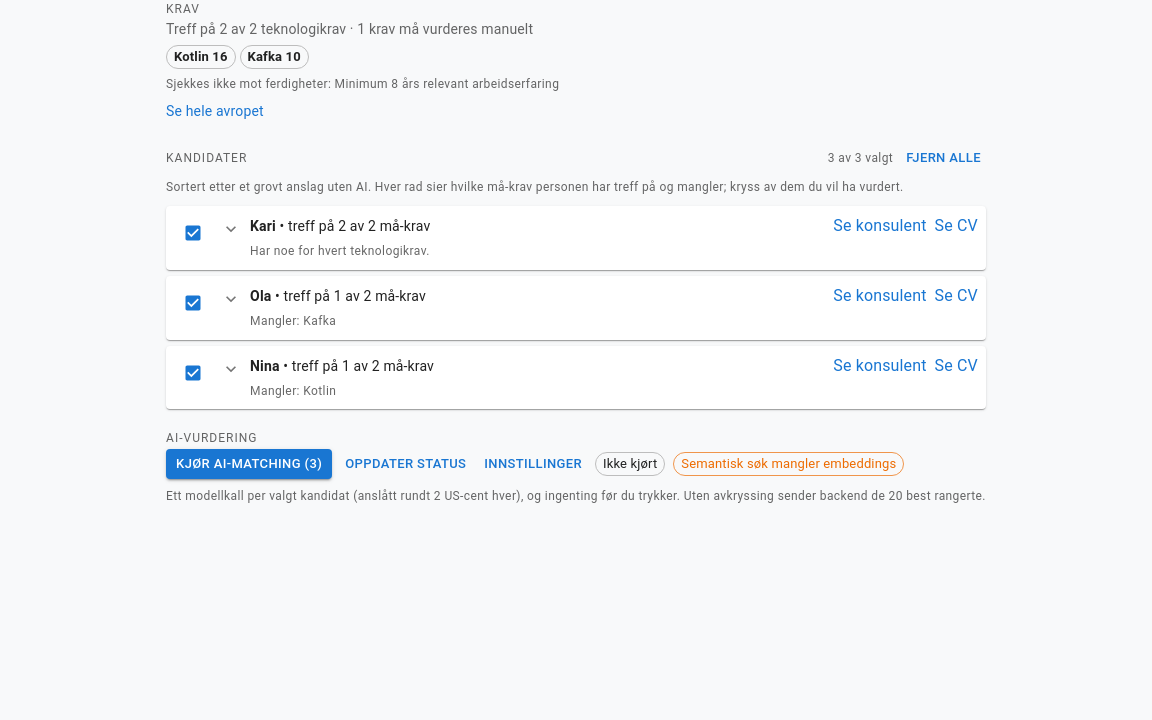
Test case: RequestMatchPanel › shows confirmation when running with highest quality
Check: the text "3 av 3 valgt" is shown, box [828,148,893,168]
What coordinates should you click on to do the following:
click the button "Innstillinger"
I would click on:
 (533, 464)
Its box is [479,449,587,480].
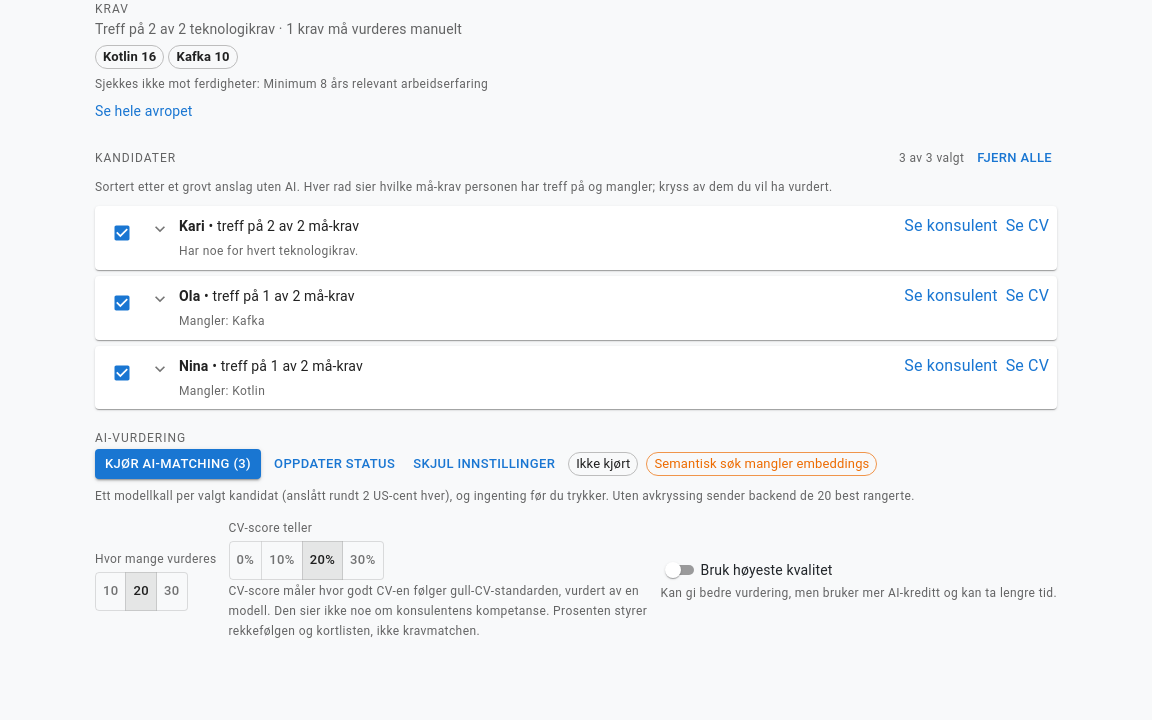
What coordinates should you click on to do the following:
click the 4th checkbox labelled "Bruk høyeste kvalitet"
I would click on:
 (748, 570)
Its box is [664,562,832,578].
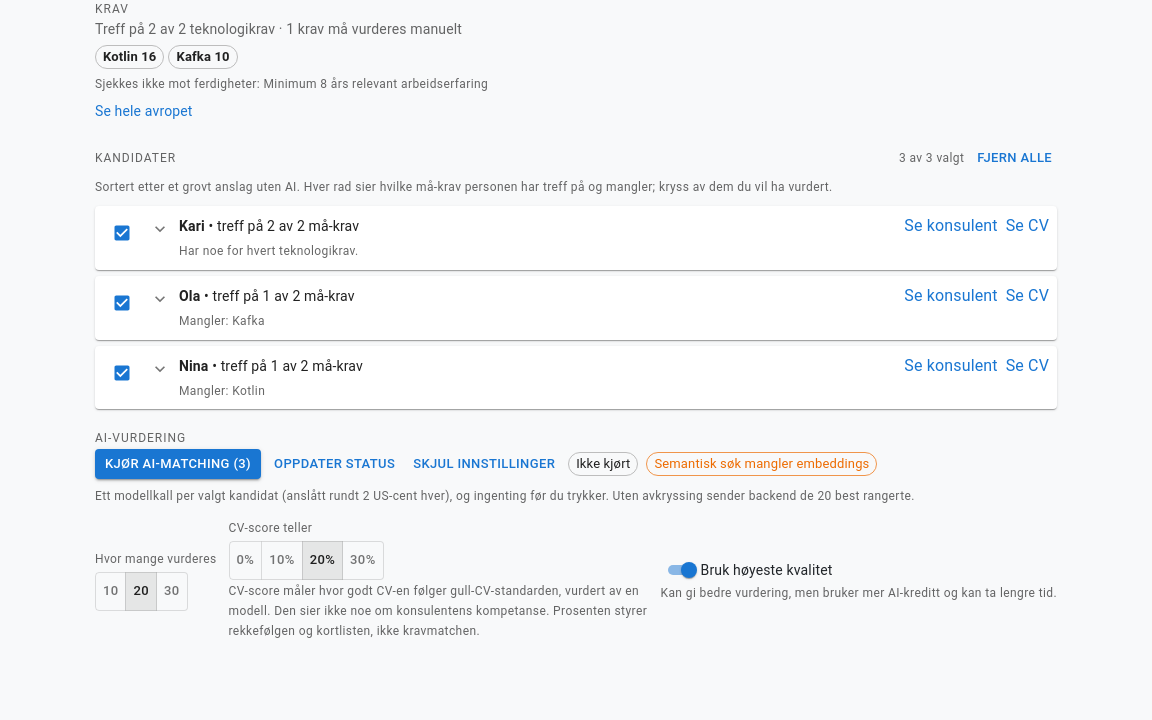
What coordinates should you click on to do the following:
click the button "Kjør AI-matching (3)"
I would click on:
 (178, 464)
Its box is [95,449,261,480].
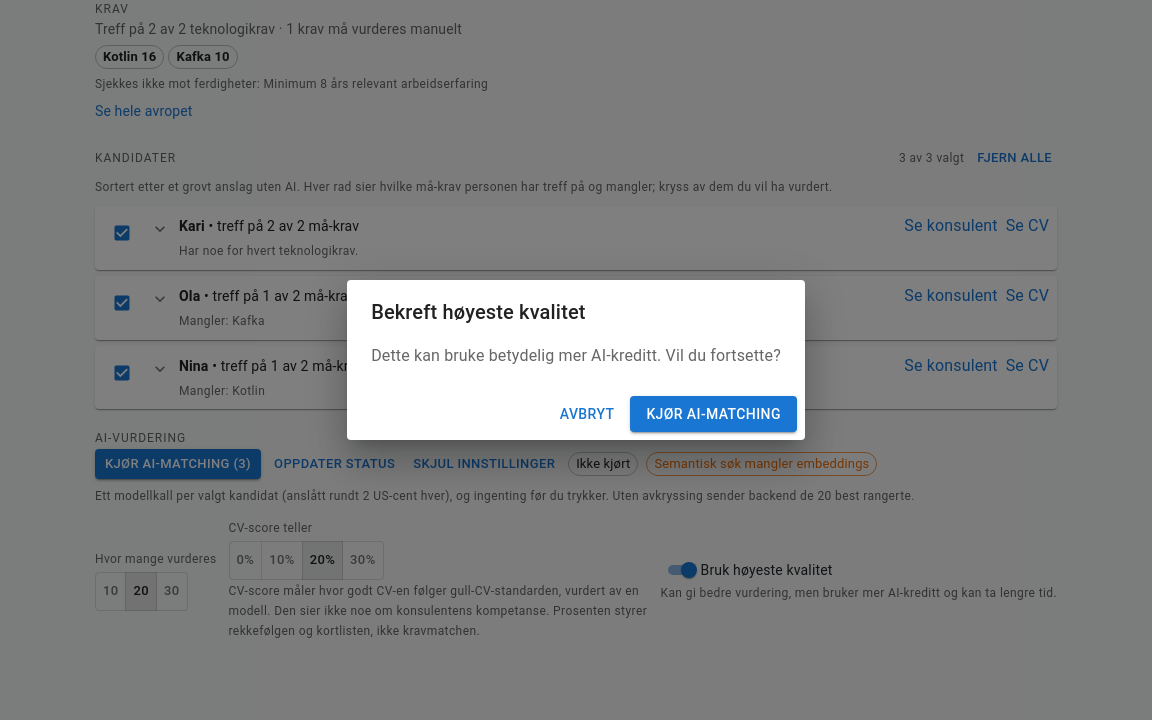
Check: the text "Dette kan bruke betydelig mer AI-kreditt. Vil du fortsette?" is shown, box [371,344,781,368]
